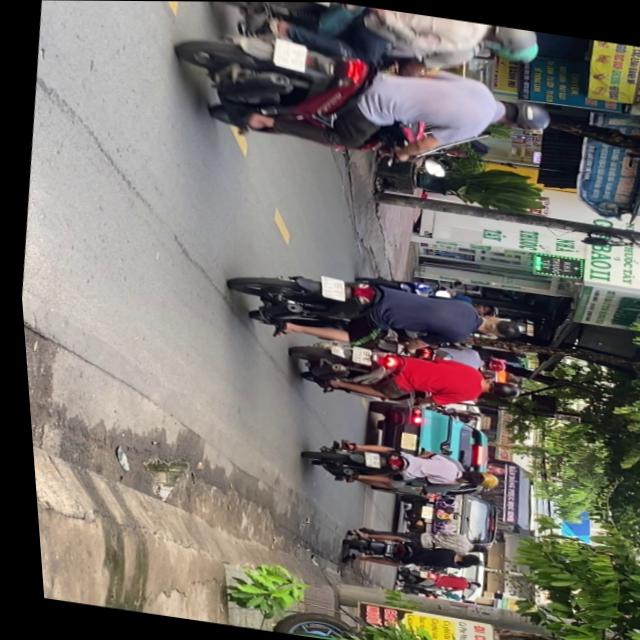helmet: (494, 95, 555, 133), (482, 34, 541, 64), (483, 23, 541, 51), (476, 375, 517, 400), (469, 469, 494, 488)
licenseplate: (165, 19, 562, 182), (219, 253, 527, 368), (201, 1, 548, 86), (280, 331, 521, 421), (294, 430, 499, 506)
motorcyclist: (470, 310, 519, 340), (446, 464, 479, 486)
nohelmet: (271, 38, 310, 71), (314, 274, 343, 299), (345, 344, 368, 364), (357, 449, 377, 467), (302, 2, 332, 5)
